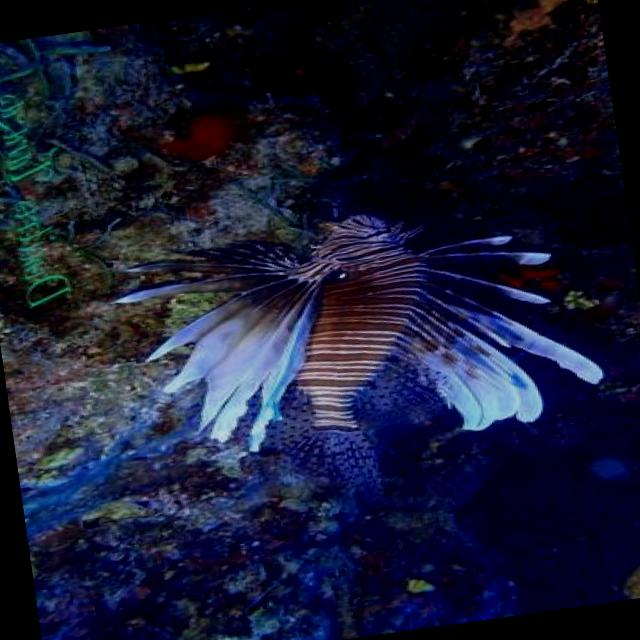Aslan Baligi: (102, 180, 615, 481)
